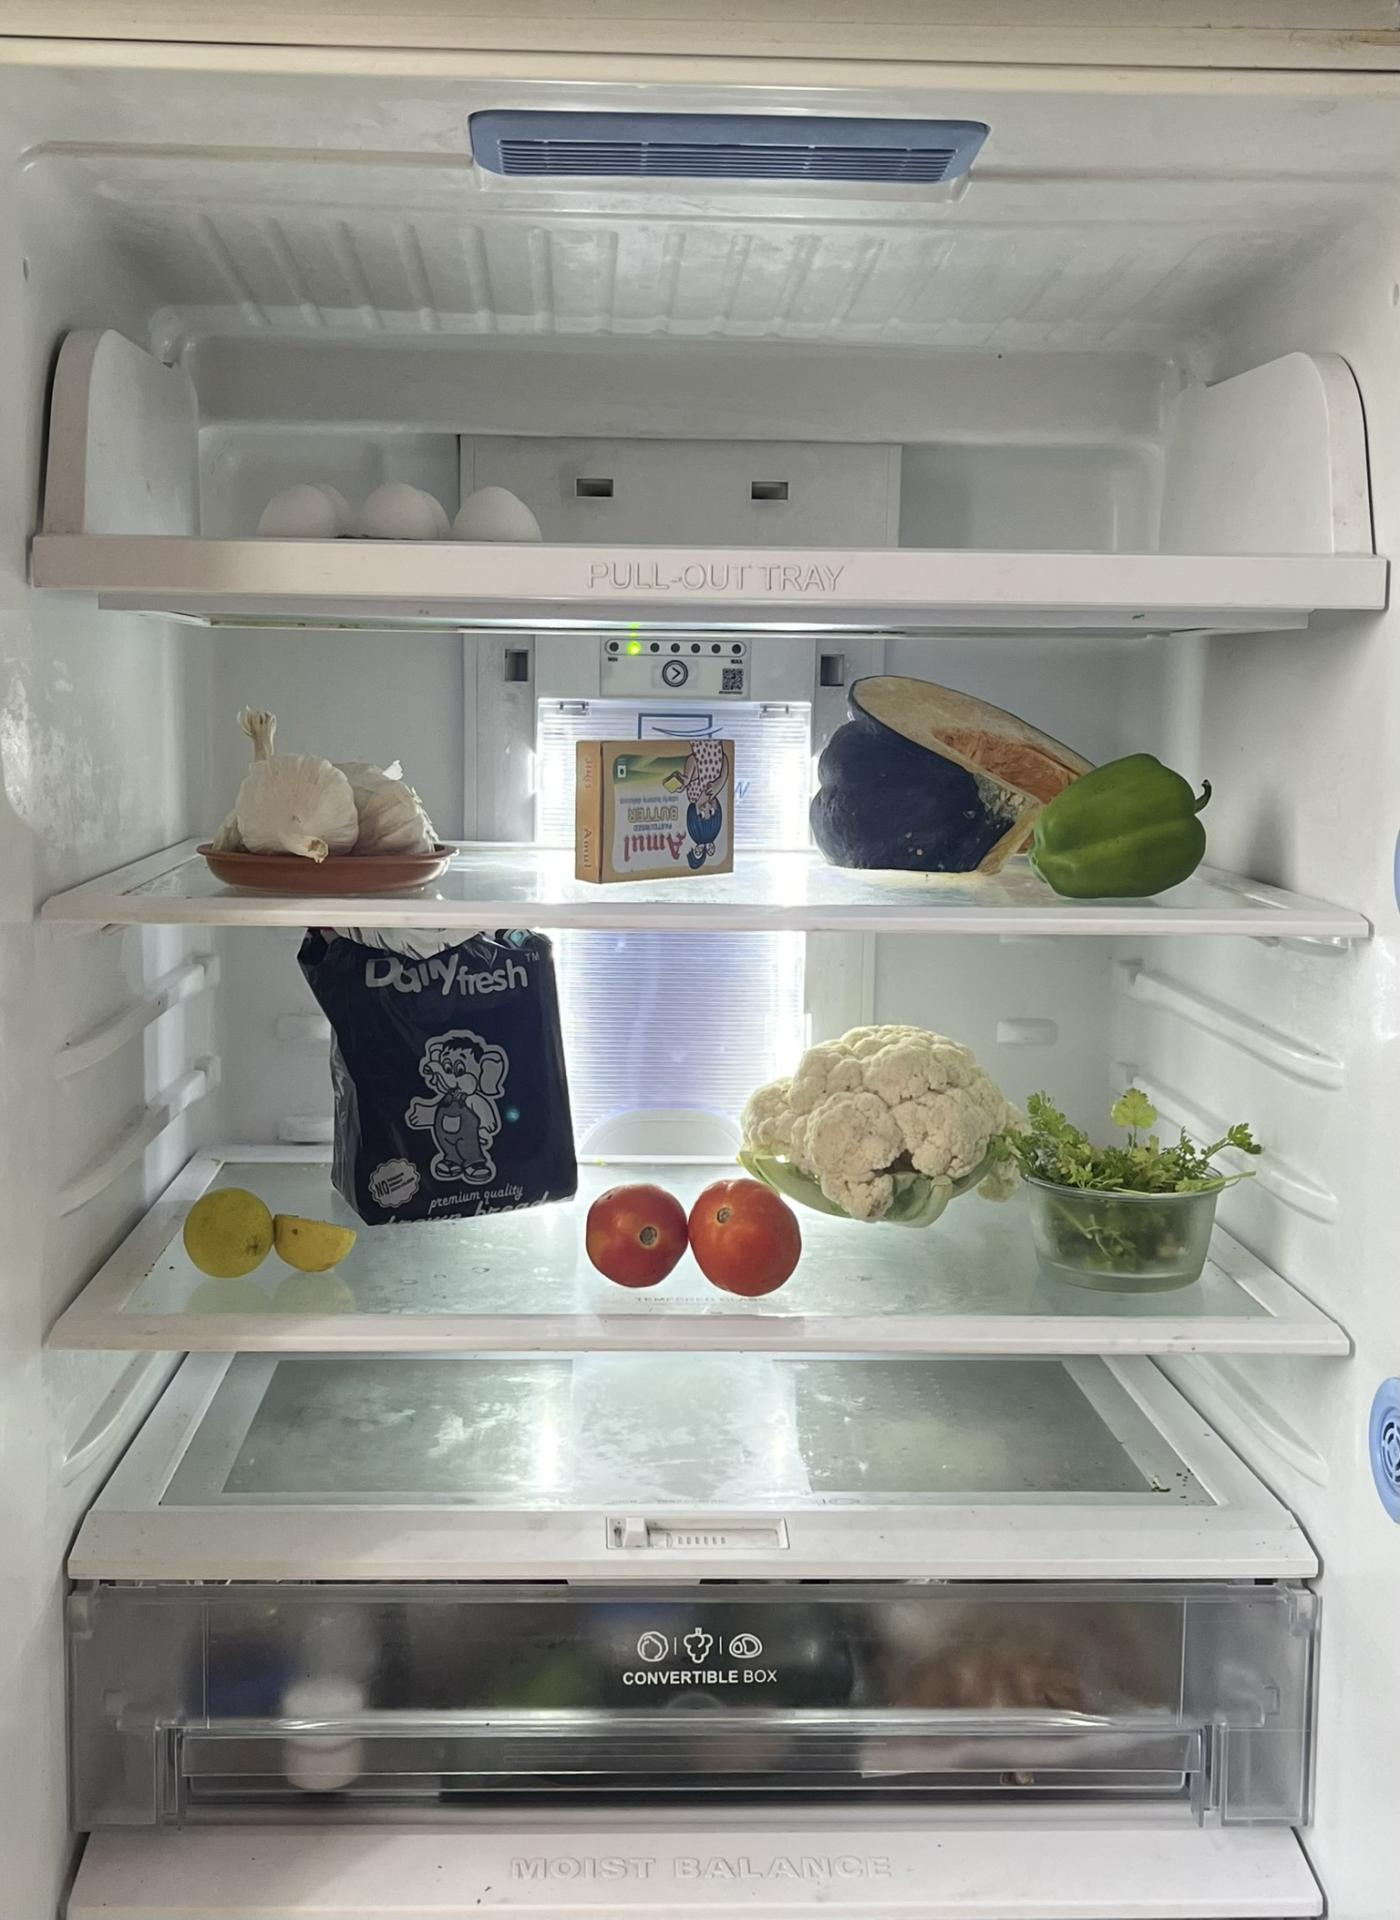bread: (304, 923, 592, 1225)
butter: (580, 741, 735, 878)
capsicum: (1039, 747, 1227, 900)
cauliflower: (735, 1020, 1033, 1222)
coriander: (994, 1091, 1276, 1282)
egg: (246, 470, 550, 547)
garlic: (194, 704, 452, 875)
lemon: (176, 1191, 365, 1269)
pumpkin: (799, 663, 1142, 878)
tomato: (690, 1175, 811, 1297), (580, 1182, 696, 1288)
